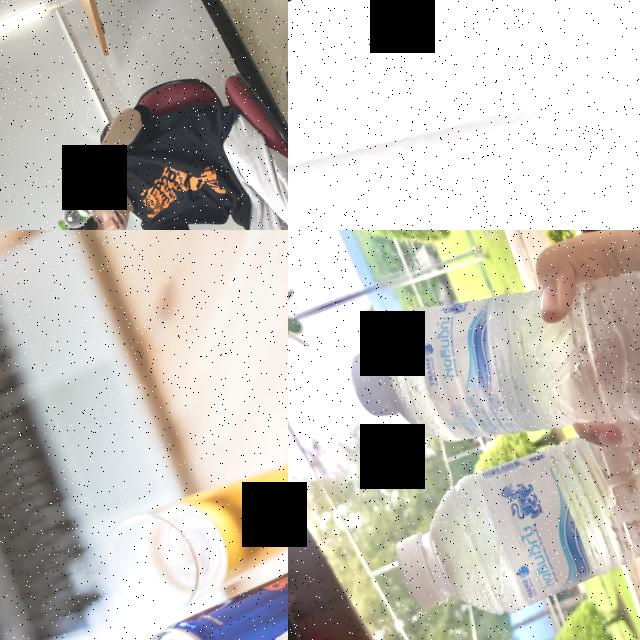bottle: (329, 230, 640, 557), (374, 345, 640, 640), (40, 151, 137, 230)
can: (128, 508, 288, 640)
cup: (288, 0, 640, 230)
